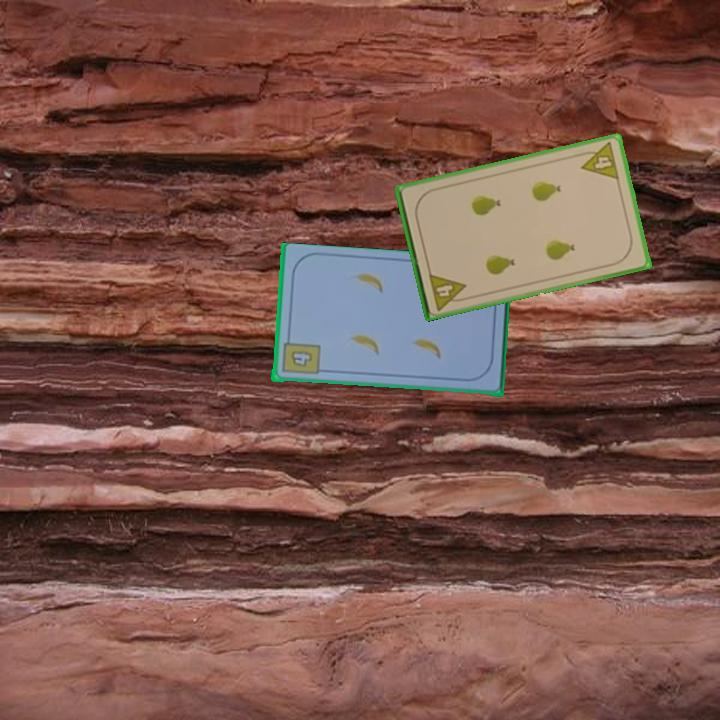4b: (278, 334, 322, 378)
4p: (575, 139, 622, 183), (425, 269, 471, 313)
